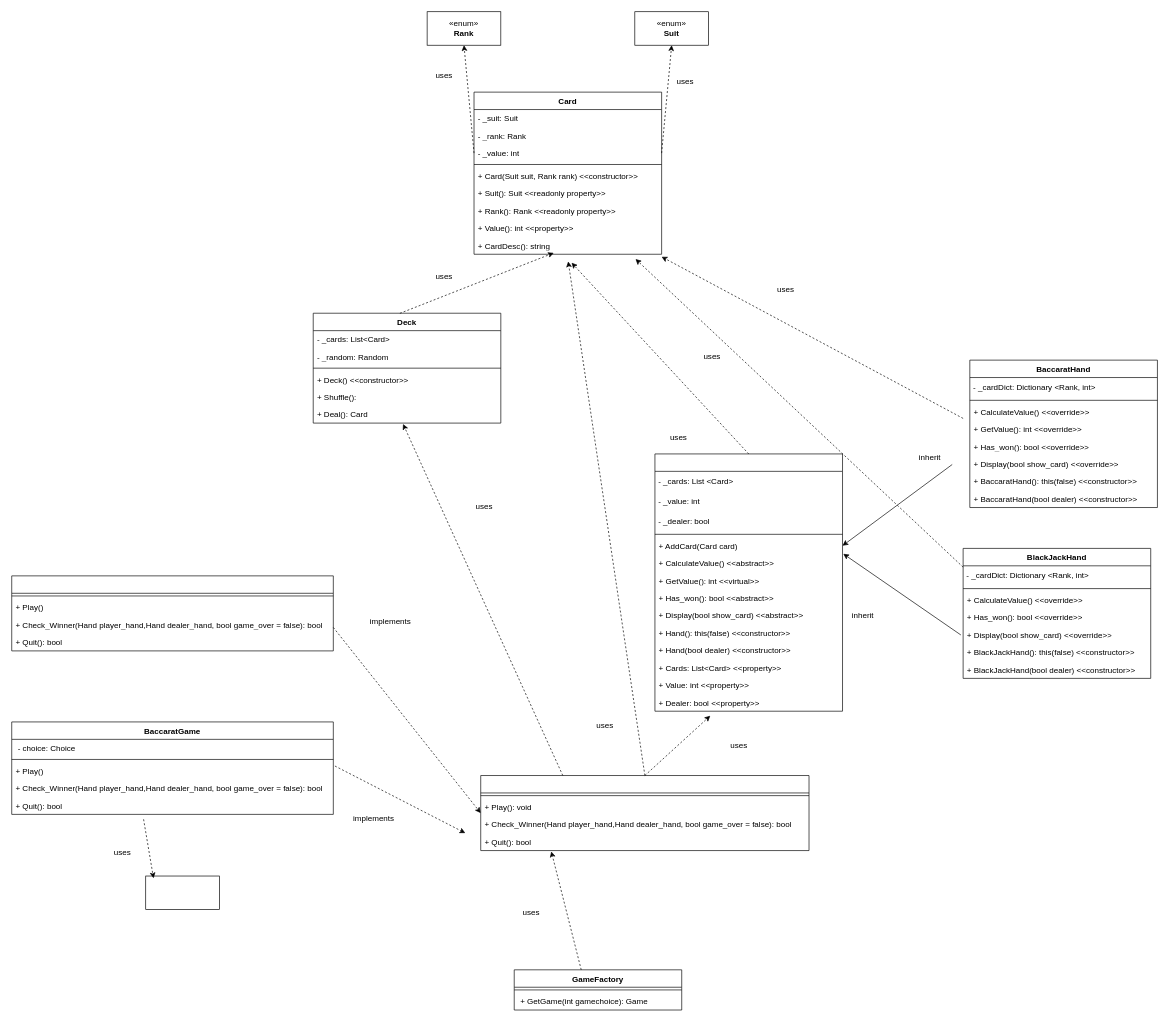
Some shapes in this 1169 by 1024 pixel diagram are drawn without their labels. The box of each missing label's shape, as (x1, y1, x2, y2) in pixels:
BlackJackGame: (11, 575, 333, 651)
Game <<interface>>: (480, 775, 809, 851)
Hand <<abstract>>: (654, 453, 843, 711)
«enum» Choice: (145, 875, 219, 910)
